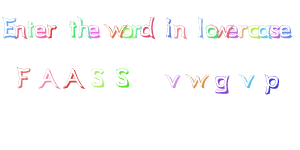A: (63, 67, 84, 90), (39, 67, 59, 89)
E: (1, 15, 18, 38)
F: (16, 66, 31, 89)
S: (115, 67, 130, 88), (90, 68, 105, 88)
a: (257, 23, 272, 39)
c: (248, 23, 259, 39)
d: (139, 16, 156, 39)
e: (279, 23, 293, 39), (87, 23, 100, 38), (34, 24, 47, 38), (226, 24, 238, 39)
g: (214, 74, 229, 94)
h: (77, 16, 89, 38)
i: (164, 17, 173, 39)
l: (196, 15, 205, 38)
n: (172, 24, 188, 39), (13, 24, 27, 39)
o: (120, 24, 134, 38), (204, 24, 218, 38)
p: (264, 73, 279, 95)
r: (130, 23, 142, 39), (47, 23, 58, 39), (238, 23, 248, 39)
s: (269, 23, 280, 38)
t: (68, 19, 77, 38), (26, 19, 34, 37)
v: (165, 73, 180, 88), (239, 74, 255, 88)
w: (185, 73, 209, 88), (103, 24, 126, 37), (214, 24, 231, 38)
